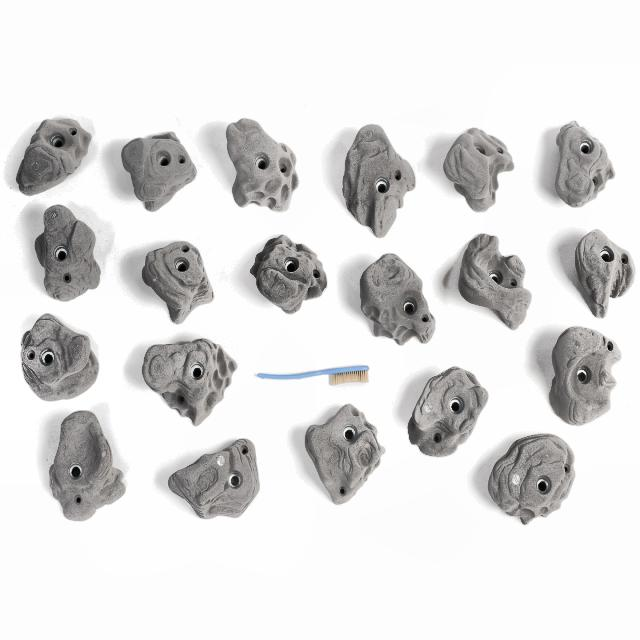Hold: (45, 412, 136, 519), (218, 115, 310, 212), (340, 119, 412, 238), (353, 248, 437, 343), (307, 401, 385, 503), (242, 232, 334, 314), (456, 231, 530, 332), (488, 433, 576, 517), (166, 439, 258, 519), (146, 338, 235, 420), (19, 313, 100, 400), (548, 328, 619, 427), (409, 372, 488, 455), (137, 240, 217, 320), (121, 129, 202, 208), (29, 207, 93, 300), (571, 229, 637, 315), (446, 122, 510, 210), (18, 120, 93, 193), (554, 123, 616, 206)
